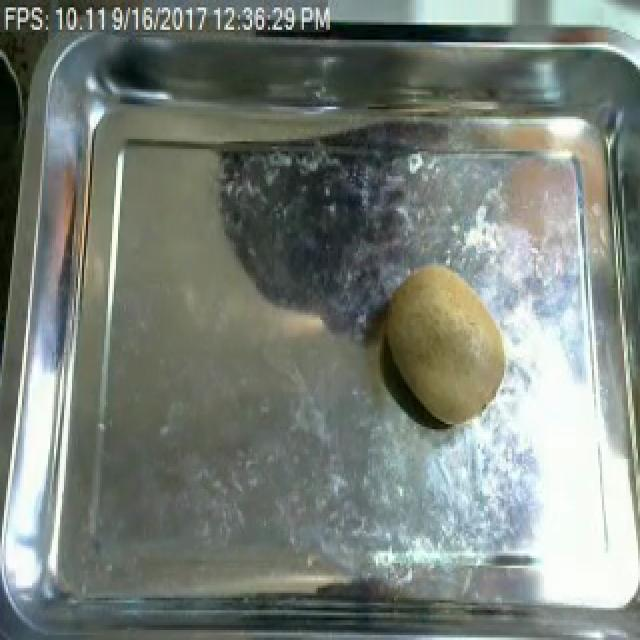Fruit: (374, 256, 518, 437)
